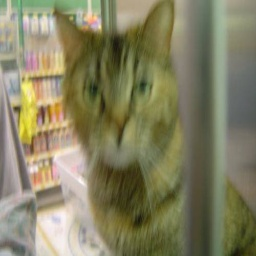cat: (49, 7, 256, 256)
